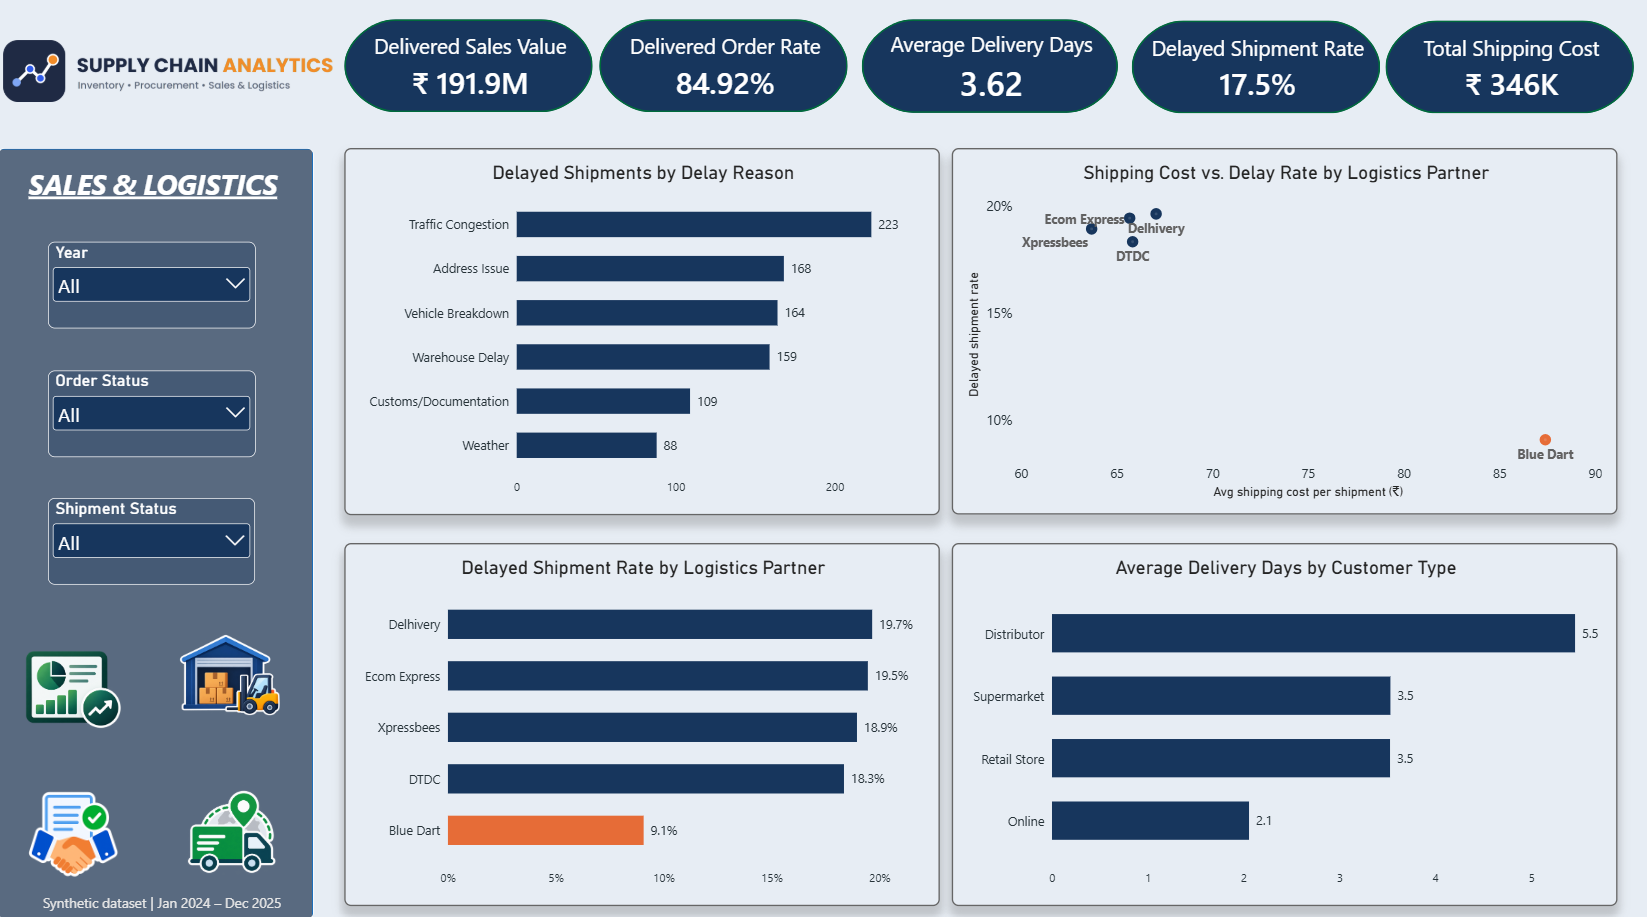

This screenshot's page, from the dashboard's own definition file:
{"tool":"powerbi","page":{"name":"Sales & Logistics","canvas":[1920,1080],"ordinal":3},"visuals":[{"type":"cardVisual","fields":{"Data":["Sales_orders.Delivered Sales Value"]},"box":[403.4,30.9,289.5,108.1],"z":0},{"type":"cardVisual","fields":{"Data":["Sales_orders.Delivered Order Rate"]},"box":[699.8,30.9,289.5,108.1],"z":1000},{"type":"cardVisual","fields":{"Data":["Shipments.Delayed Shipment Rate"]},"box":[1318.6,31.4,289.5,108.1],"z":2000},{"type":"cardVisual","fields":{"Data":["Shipments.Total Shipping Cost"]},"box":[1613.4,31.4,289.5,108.1],"z":3000},{"type":"cardVisual","fields":{"Data":["Sales_orders.Average Delivery Days - Delivered"]},"box":[1004.5,30.9,298.5,109.1],"z":4000},{"type":"clusteredBarChart","title":"Delayed Shipments by Delay Reason","fields":{"Category":["Shipments.delay_reason"],"Y":["CountNonNull(Shipments.shipment_id)"]},"box":[402.9,179.7,692.4,427.3],"z":5000},{"type":"clusteredBarChart","title":"Delayed Shipment Rate by Logistics Partner","fields":{"Category":["Shipments.logistics_partner"],"Y":["Shipments.Delayed Shipment Rate"]},"box":[402.9,640.1,692.4,422.1],"z":6000},{"type":"shape","box":[0,180.1,367.4,898.8],"z":7000},{"type":"clusteredBarChart","title":"Average Delivery Days by Customer Type","fields":{"Category":["Sales_orders.customer_type"],"Y":["Sales_orders.Average Delivery Days - Delivered"]},"box":[1109.3,640.1,774.4,422.1],"z":8000},{"type":"slicer","fields":{"Values":["DateTable.Year"]},"box":[57.6,290,241.4,100.9],"z":9000},{"type":"slicer","fields":{"Values":["Sales_orders.order_status"]},"box":[57.6,439.5,241.4,100.9],"z":10000},{"type":"slicer","fields":{"Values":["Shipments.shipment_status"]},"box":[57.6,587.8,240.7,101.2],"z":11000},{"type":"image","box":[0,0,397.3,181.1],"z":12000},{"type":"image","box":[5.4,742.1,162.1,133.3],"z":13000},{"type":"image","box":[203.5,724.1,131.5,135.1],"z":14000},{"type":"image","box":[19.8,902.4,135.1,145.9],"z":15000},{"type":"image","box":[199.9,900.6,134.7,145.7],"z":16000},{"type":"textbox","box":[0,199.9,360.2,75.6],"z":17000},{"type":"scatterChart","title":"Shipping Cost vs. Delay Rate by Logistics Partner","fields":{"Category":["Shipments.logistics_partner"],"X":["Avg(Shipments.shipping_cost)"],"Y":["Shipments.Delayed Shipment Rate"]},"box":[1108.8,180.2,774.6,426.6],"z":18000},{"type":"textbox","box":[0,1046.5,382,31.4],"z":19000}]}

Visuals, with their boxes in screenshot pixels (x1, y1, x2, y2), scaled from the page's 1920x1080 canvas onto the 1647x917 screenshot:
cardVisual - Sales_orders.Delivered Sales Value: [346, 26, 594, 118]
cardVisual - Sales_orders.Delivered Order Rate: [600, 26, 849, 118]
cardVisual - Shipments.Delayed Shipment Rate: [1131, 27, 1379, 118]
cardVisual - Shipments.Total Shipping Cost: [1384, 27, 1632, 118]
cardVisual - Sales_orders.Average Delivery Days - Delivered: [862, 26, 1118, 119]
"Delayed Shipments by Delay Reason" clusteredBarChart: [346, 153, 940, 515]
"Delayed Shipment Rate by Logistics Partner" clusteredBarChart: [346, 543, 940, 902]
shape: [0, 153, 315, 916]
"Average Delivery Days by Customer Type" clusteredBarChart: [952, 543, 1616, 902]
slicer - DateTable.Year: [49, 246, 256, 332]
slicer - Sales_orders.order_status: [49, 373, 256, 459]
slicer - Shipments.shipment_status: [49, 499, 256, 585]
image: [0, 0, 341, 154]
image: [5, 630, 144, 743]
image: [175, 615, 287, 730]
image: [17, 766, 133, 890]
image: [171, 765, 287, 888]
textbox: [0, 170, 309, 234]
"Shipping Cost vs. Delay Rate by Logistics Partner" scatterChart: [951, 153, 1616, 515]
textbox: [0, 889, 328, 915]
